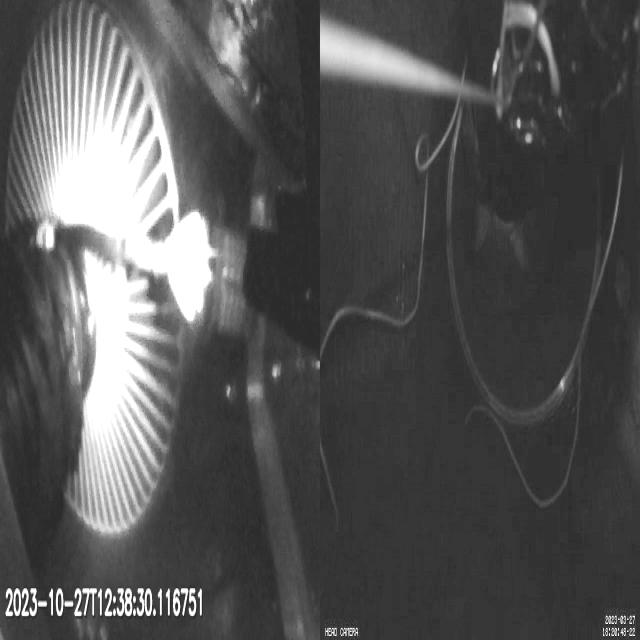head: (168, 213, 264, 339)
white-dots: (28, 218, 55, 255)
